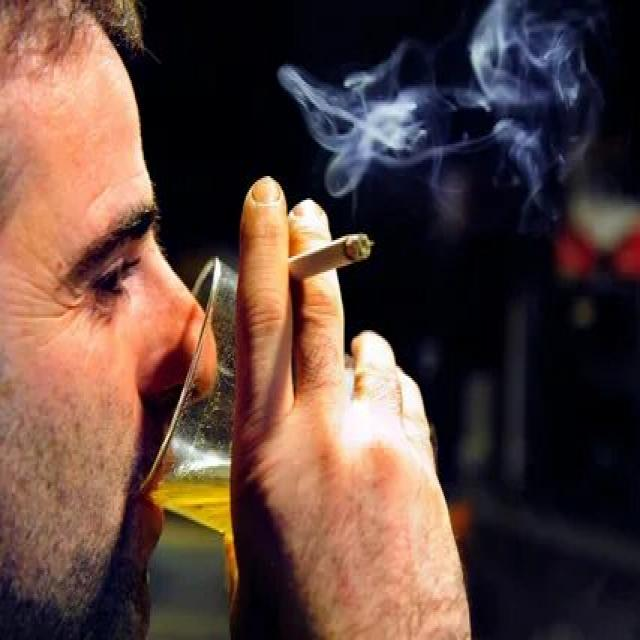smoke: (283, 228, 375, 294)
